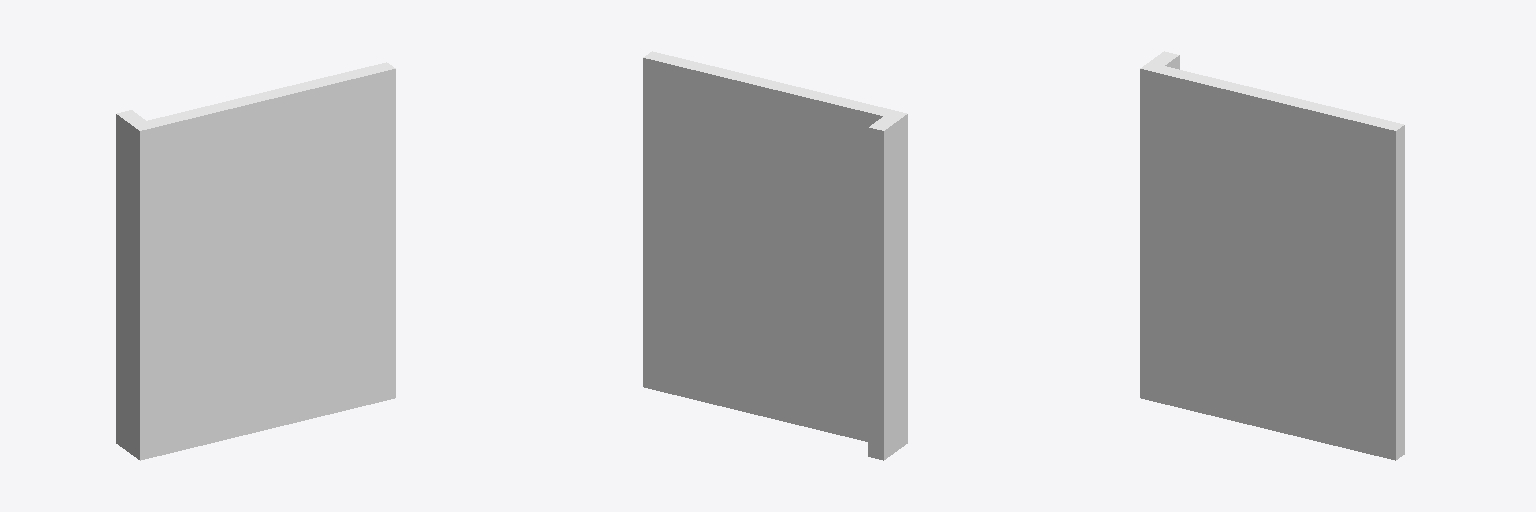
File: wall_1.obj
The picture shows the model from 3 angles: view 1: azimuth 30°, elevation 25°; view 2: azimuth 150°, elevation 25°; view 3: azimuth 330°, elevation 25°; orthographic projection.
Visible parts, largest first — view 1: Mesh37_Group29_Model; view 2: Mesh37_Group29_Model; view 3: Mesh37_Group29_Model.
Part boxes in pixels (left/top/right/bottom): Mesh37_Group29_Model: left=116, top=62, right=395, bottom=460; Mesh37_Group29_Model: left=643, top=51, right=907, bottom=460; Mesh37_Group29_Model: left=1140, top=51, right=1404, bottom=460.
Bounding box in the file's own units: 65.8 × 81 × 10.6.